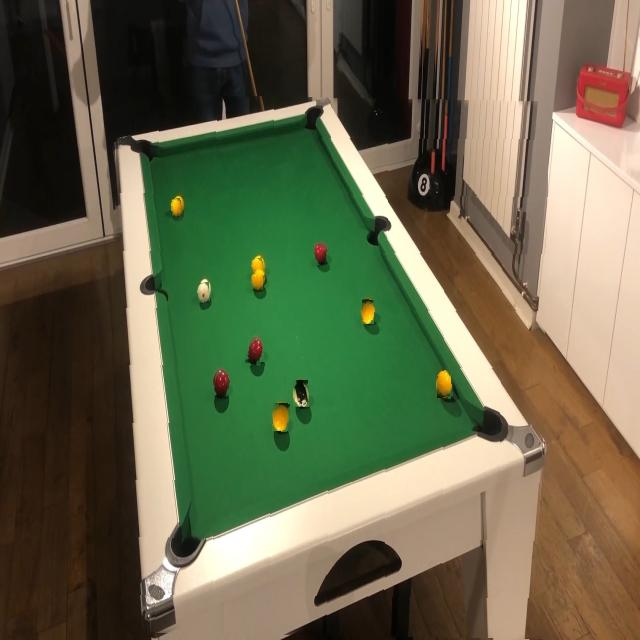Ball: (247, 338, 265, 365), (213, 371, 230, 399), (273, 404, 290, 432), (437, 371, 453, 397), (294, 381, 309, 407), (360, 300, 375, 324), (251, 270, 264, 292), (313, 243, 326, 265), (198, 282, 210, 303), (251, 258, 265, 275), (170, 199, 183, 217)
Billiard table: (111, 96, 547, 638)
